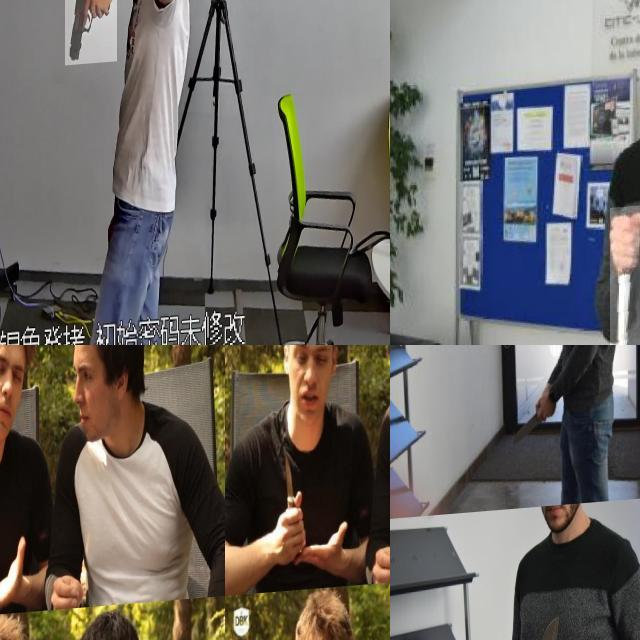-: (609, 211, 640, 345), (390, 345, 410, 537), (274, 446, 306, 550), (0, 490, 18, 575), (511, 416, 543, 453)
gun-knife-thesis - v11 Yolov5 augmented: (64, 0, 117, 67)
